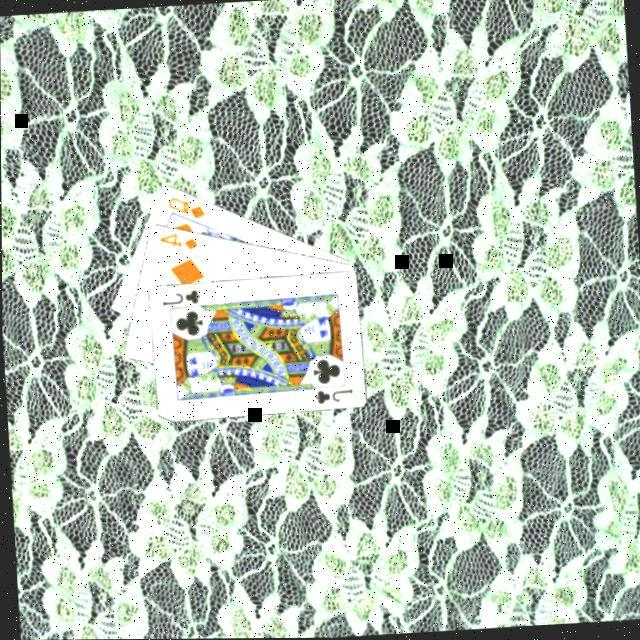4D: (155, 230, 200, 255)
JC: (157, 288, 202, 311), (309, 387, 354, 409)
QD: (163, 194, 207, 226)
